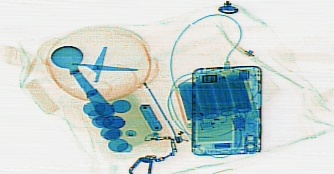powerbank: (172, 71, 257, 125)
scissors: (71, 44, 139, 81)
